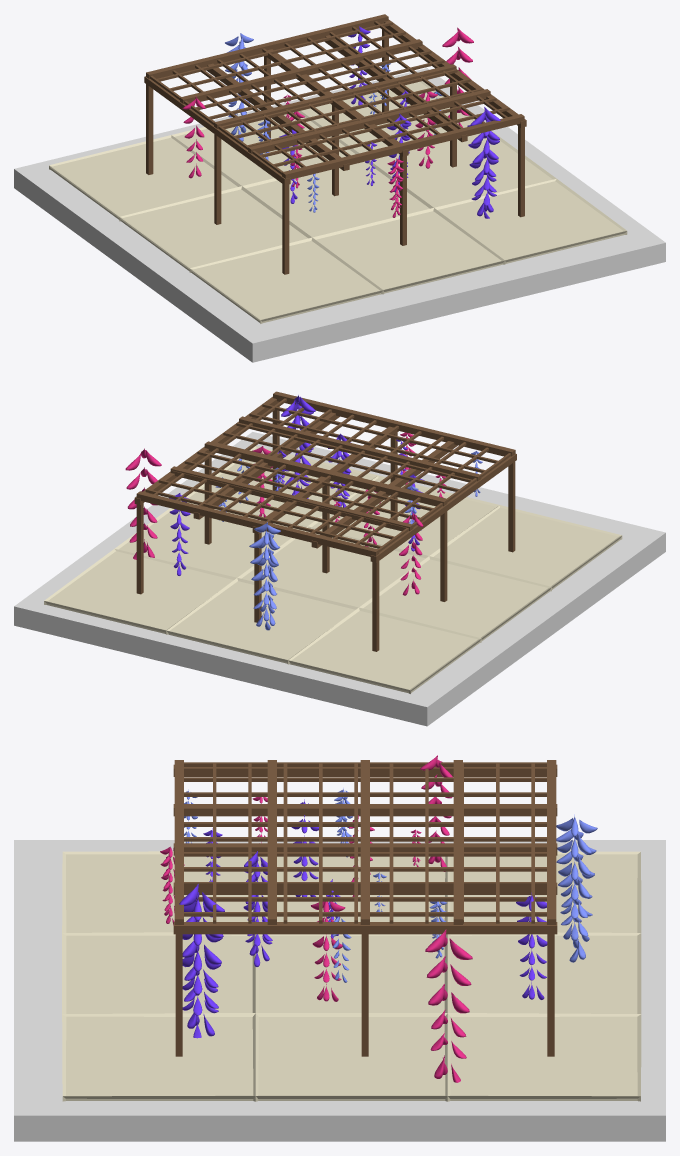
File: 藤の花vrm向け.glb
The picture shows the model from 3 angles, top to bottom: view 1: azimuth 30°, elevation 25°; view 2: azimuth 150°, elevation 25°; view 3: azimuth 270°, elevation 25°; orthographic projection. The views are drawn at different scales.
Visible parts, largest first — view 1: 立方体.002; view 2: 立方体.002; view 3: 立方体.002.
Boxes of the visible parts, x1,y1,x2,y2 form: 立方体.002: (14, 14, 665, 362); 立方体.002: (14, 391, 665, 726); 立方体.002: (14, 755, 665, 1141).
Bounding box in the file's own units: 16.47 × 5.08 × 16.47.
